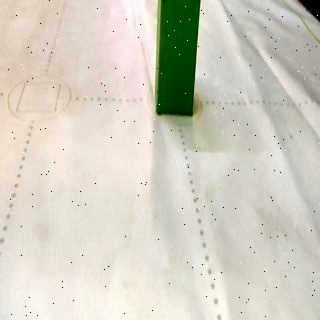greenbox: (156, 0, 202, 115)
